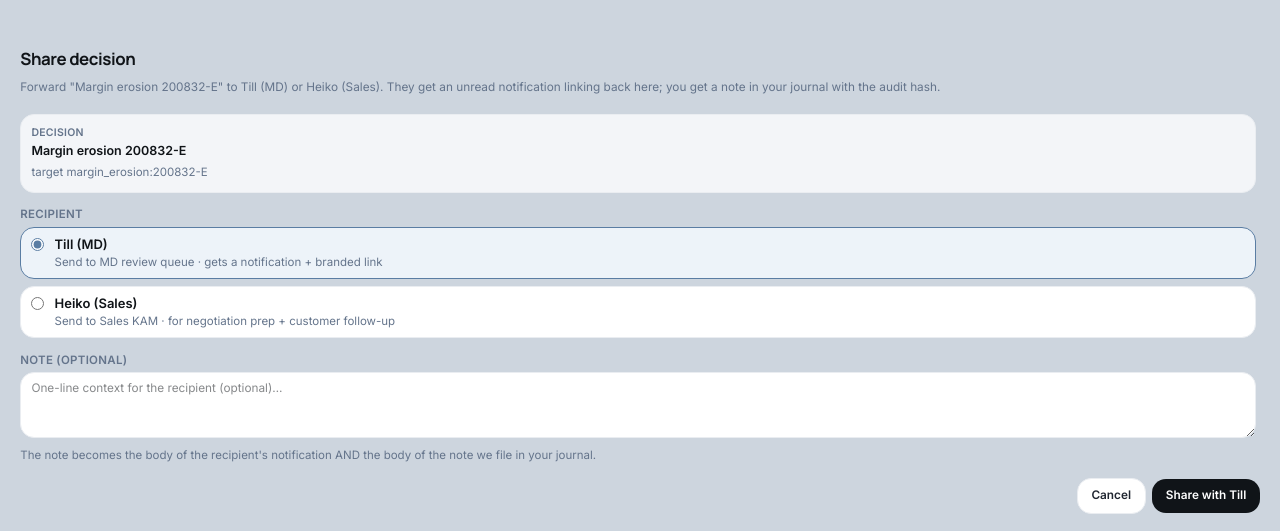
Test: ShareDecisionForm (Phase 11) › renders the share receipt with notification + audit hash on success
Note: Switch to Heiko before submitting.
Click the 2nd radio button at [38, 304], box [31, 297, 44, 310]
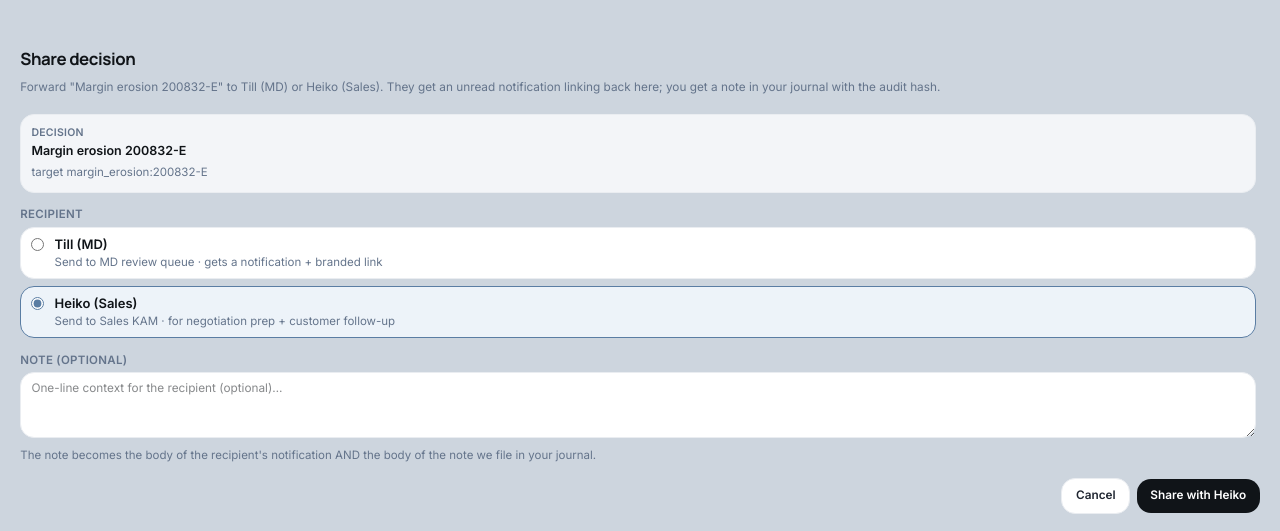
Click the button "Share with Heiko" at [1198, 496], box [1137, 479, 1260, 513]
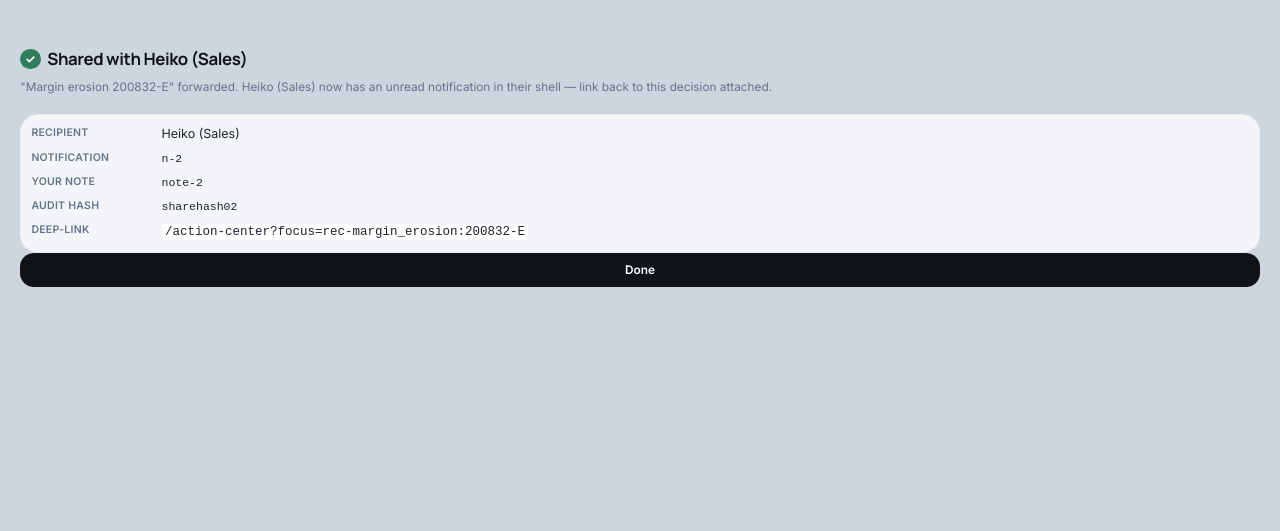
Expected: the element with test id "share-receipt" is shown, [0, 0, 1279, 307]
Expected: the heading "Shared with Heiko (Sales)" is shown, [47, 47, 248, 71]
Expected: the text with test id "share-notification-id" reads "n-2", [162, 152, 182, 165]
